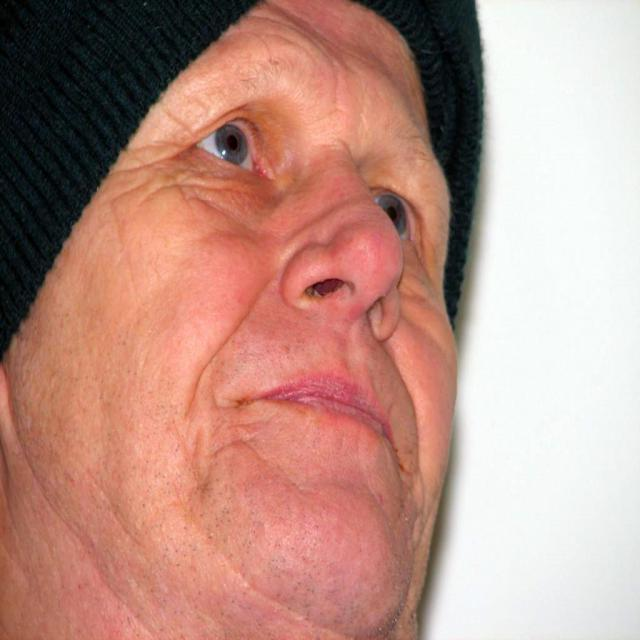closed-mouth: (237, 363, 414, 477)
